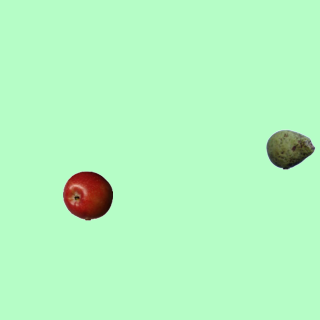Apple Braeburn: (62, 170, 112, 220)
Pear Stone: (265, 124, 315, 174)
